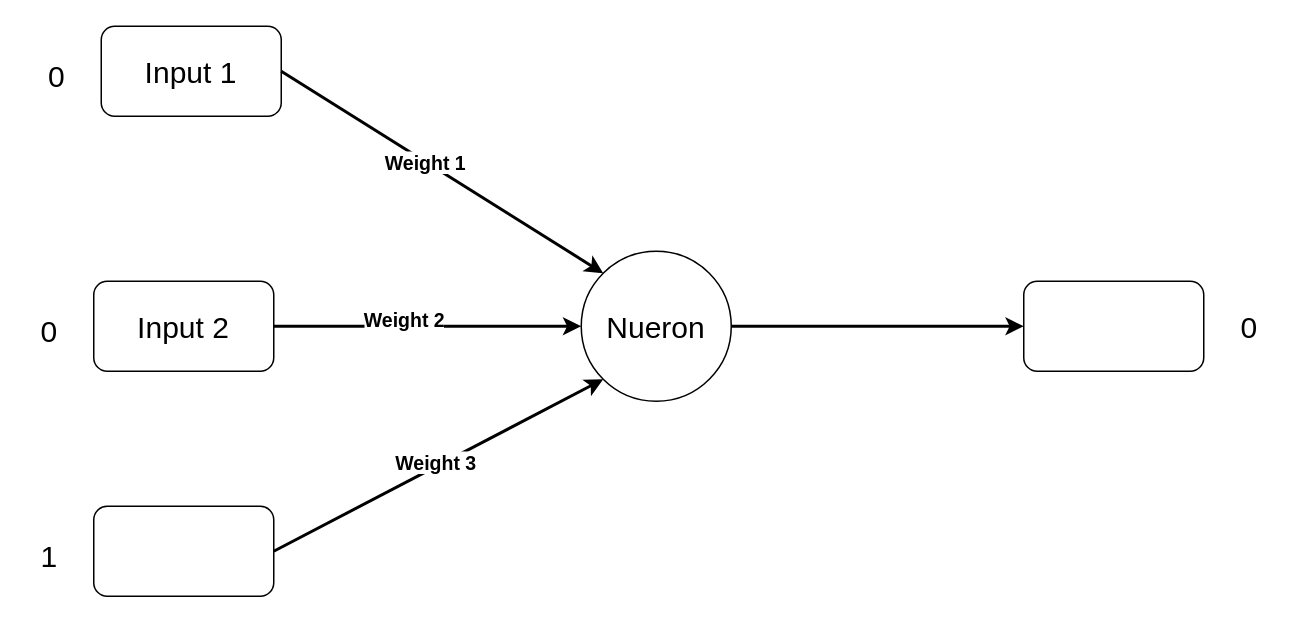
This 1296x623 diagram has some shape labels left out. The shapes that lost their labels are listed below. From the top down, each one's centre as x and y in pixels, then its label:
the point at 1113,325: Output 1
the point at 183,550: Input 3
